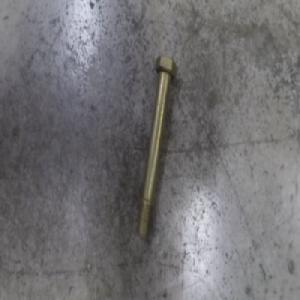Bolt: (136, 52, 178, 240)
